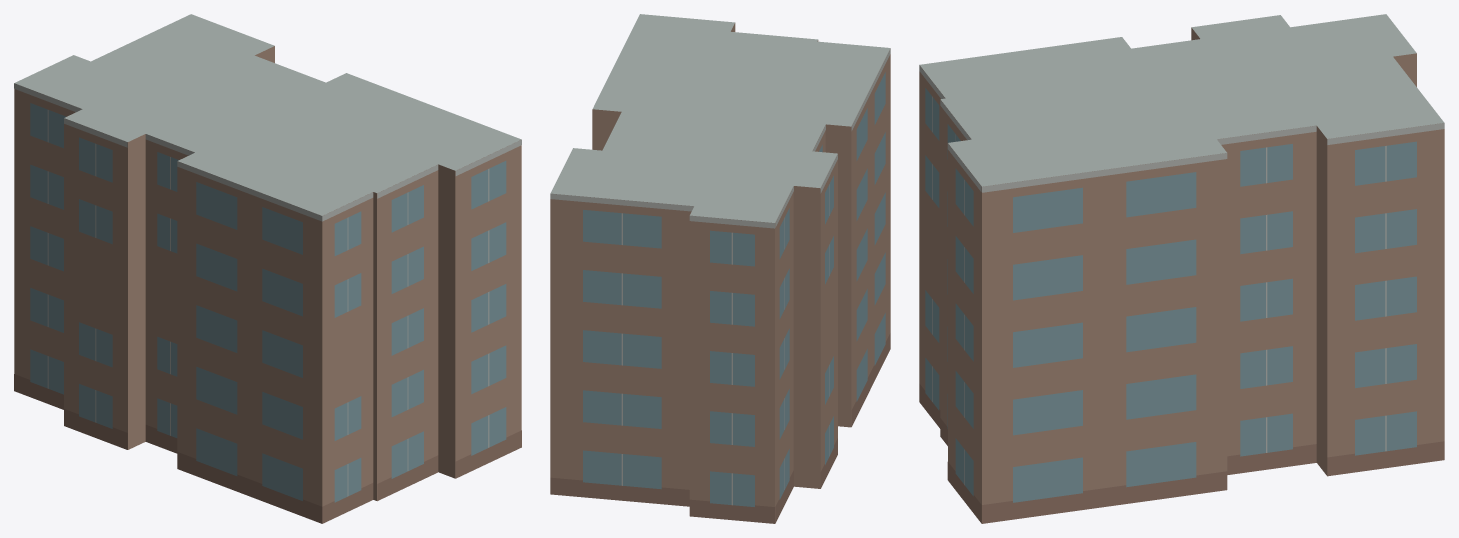
The model's file is survey-upis-32619868.glb.
The picture shows the model from 3 angles, left to right: view 1: azimuth 30°, elevation 25°; view 2: azimuth 150°, elevation 25°; view 3: azimuth 270°, elevation 25°; orthographic projection. The views are drawn at different scales.
Visible parts, largest first — view 1: survey-upis-32619868.tmp; view 2: survey-upis-32619868.tmp; view 3: survey-upis-32619868.tmp.
Boxes of the visible parts, <box> form: survey-upis-32619868.tmp: <box>14,14,521,523</box>; survey-upis-32619868.tmp: <box>550,14,890,523</box>; survey-upis-32619868.tmp: <box>919,14,1444,523</box>.
Size of the model in its own units: 14.61 by 13.3 by 18.78.
